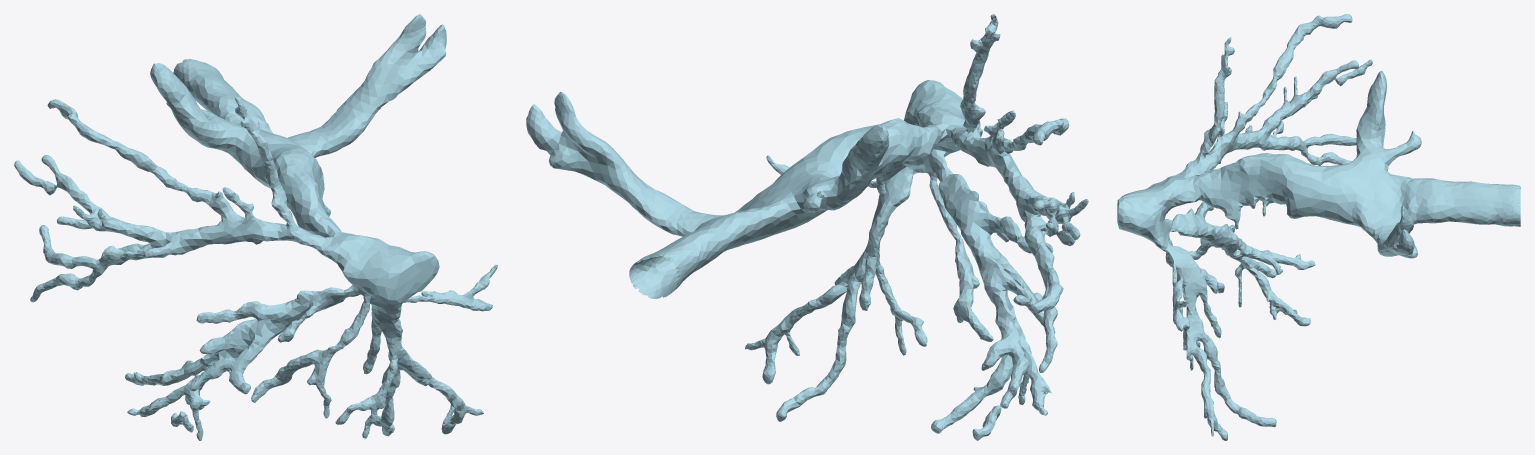
File: venacava.obj
3 views of the same model, side by side, from view 1: azimuth 30°, elevation 25°; view 2: azimuth 150°, elevation 25°; view 3: azimuth 270°, elevation 25° (orthographic). The views are drawn at different scales.
Parts seen in each view (by area): view 1: grp1; view 2: grp1; view 3: grp1.
Boxes of the visible parts, x1=… form: grp1: x1=14, y1=14, x2=497, y2=440; grp1: x1=526, y1=14, x2=1088, y2=440; grp1: x1=1117, y1=14, x2=1520, y2=440.
Size of the model in its own units: 201 by 165 by 186.
